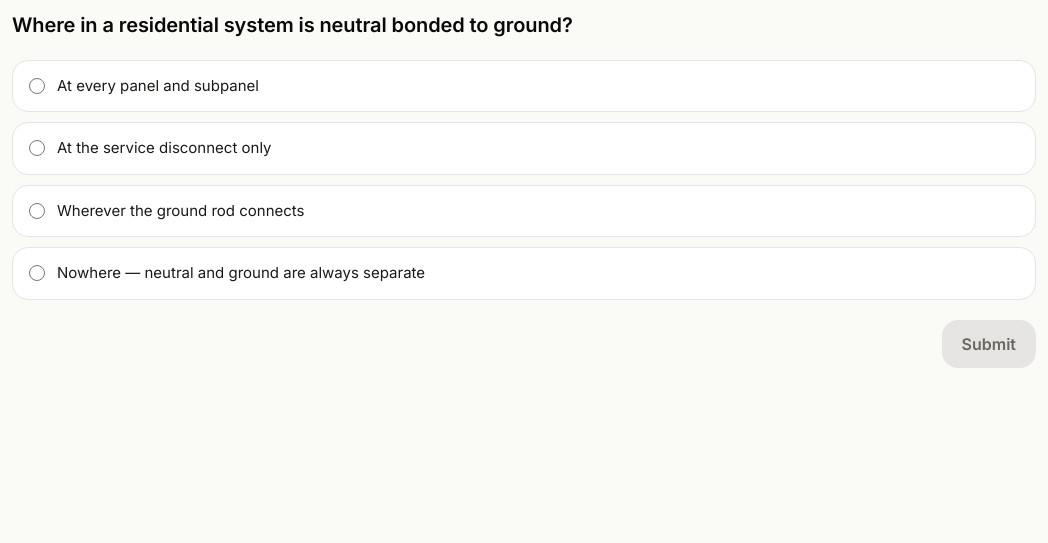
it: MCQuestionScreen wrong-answer inline flow › renders remediation text inline when a wrong option is submitted
The image size is (1048, 543).
Click the radio button labelled "At every panel and subpanel": (37, 86) [29,78,45,94]
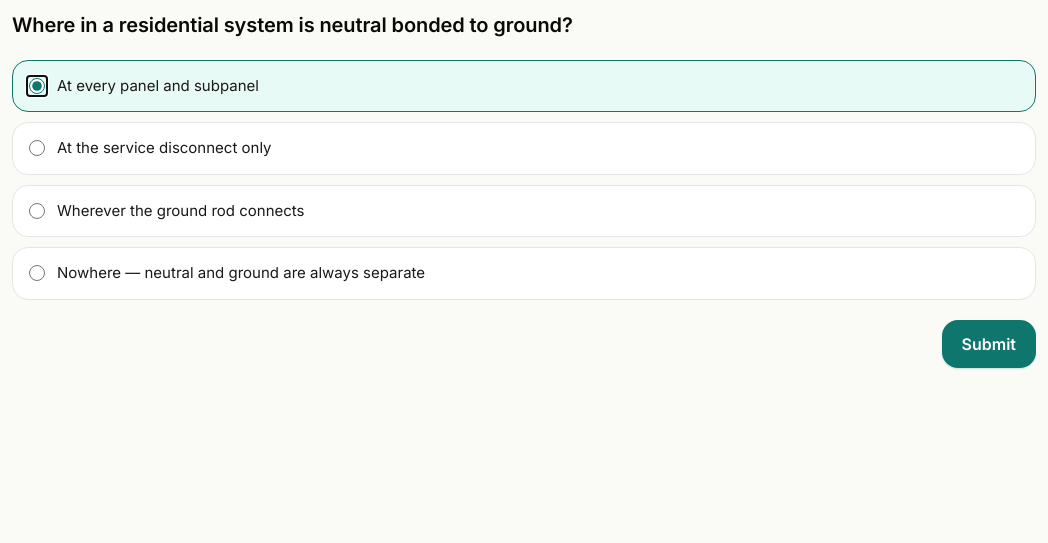
Click the button "Submit": (989, 344) [942,320,1036,368]
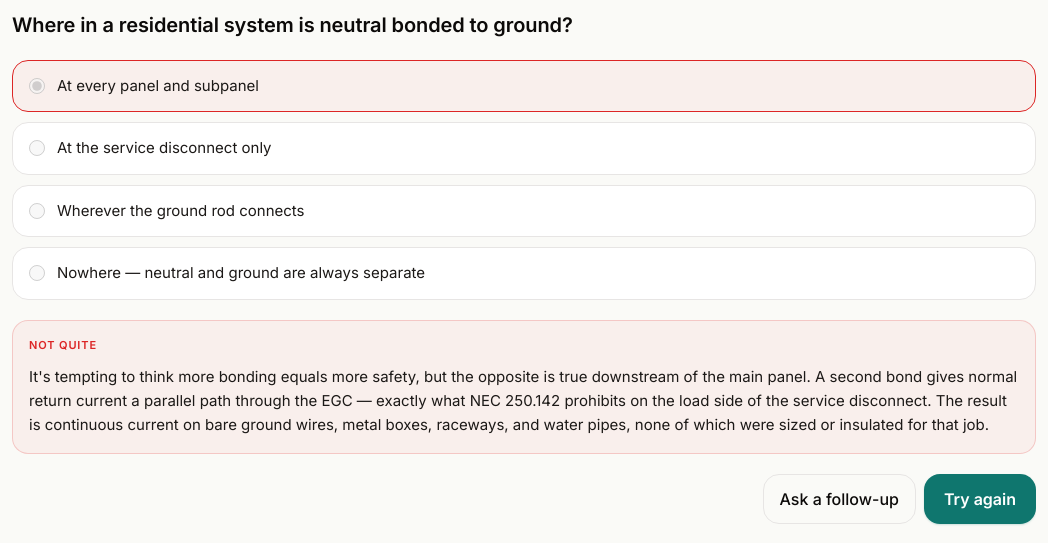
Result: the text "It's tempting to think more bonding equals more safety, but the opposite is true downstream of the main panel. A second " is shown at [29,367,1022,434]
Result: the button "Try again" is shown at [924,474,1036,524]
